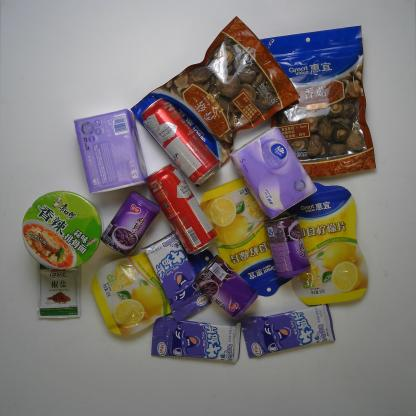Alcohol: (139, 98, 221, 190), (146, 161, 218, 257)
Candy: (140, 229, 212, 324), (242, 302, 336, 360), (150, 316, 242, 364)
Canned Food: (194, 254, 259, 322), (100, 190, 162, 258), (262, 212, 313, 280)
Dried Food: (130, 15, 301, 189), (261, 23, 379, 180)
Dried Fruit: (200, 176, 296, 298), (90, 244, 214, 336), (288, 181, 369, 308)
Instant Noodles: (21, 190, 104, 271)
Seasoner: (34, 260, 82, 319)
Tissue: (228, 124, 319, 221), (73, 108, 148, 196)
